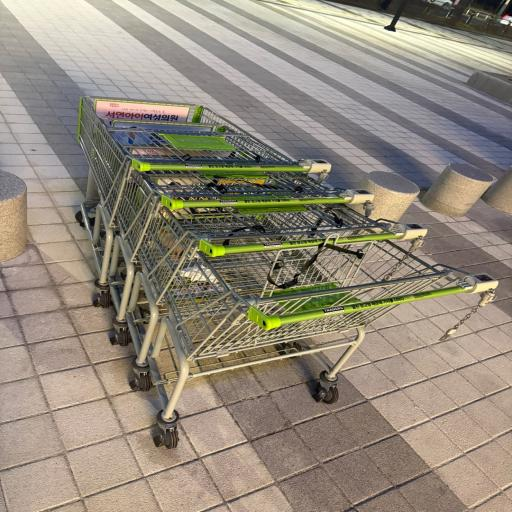combined_cart: (62, 88, 504, 467)
